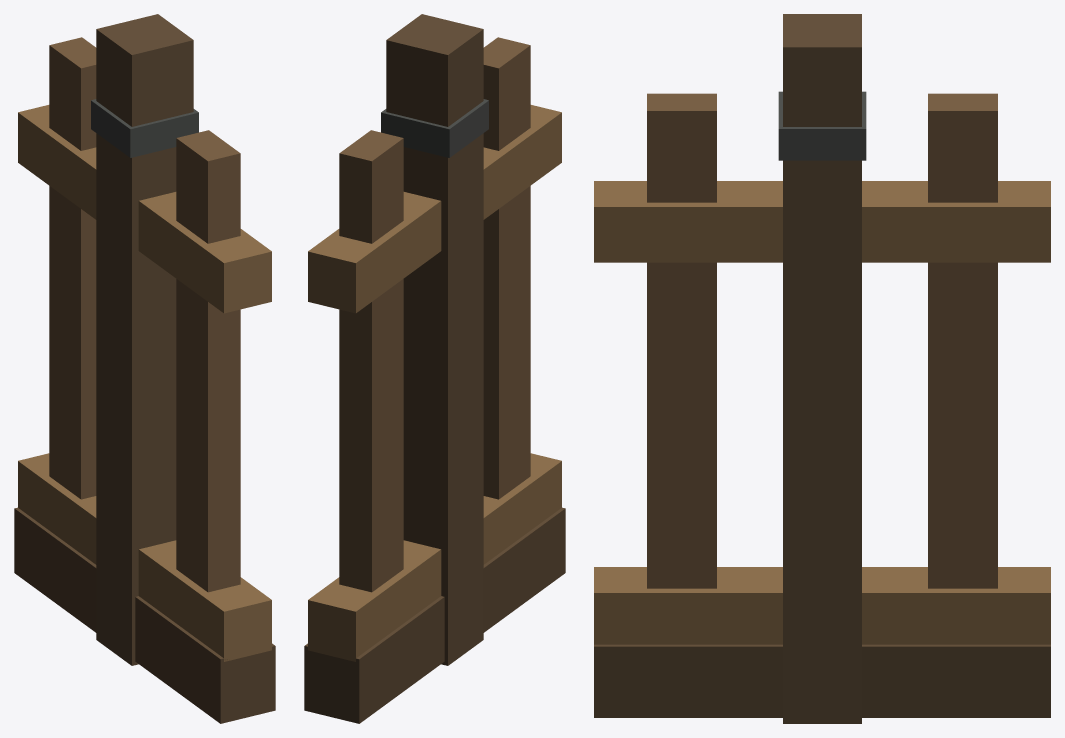
3 views of the same model, side by side, from view 1: azimuth 30°, elevation 25°; view 2: azimuth 150°, elevation 25°; view 3: azimuth 270°, elevation 25° (orthographic). The views are drawn at different scales.
Visible parts, largest first — view 1: 3132f81b4a6b1f63db47e95a6aee939cd7edae876f63878d45e85006856e; view 2: 3132f81b4a6b1f63db47e95a6aee939cd7edae876f63878d45e85006856e; view 3: 3132f81b4a6b1f63db47e95a6aee939cd7edae876f63878d45e85006856e.
Boxes of the visible parts, x1,y1,x2,y2 form: 3132f81b4a6b1f63db47e95a6aee939cd7edae876f63878d45e85006856e: [14, 14, 275, 723]; 3132f81b4a6b1f63db47e95a6aee939cd7edae876f63878d45e85006856e: [304, 14, 565, 723]; 3132f81b4a6b1f63db47e95a6aee939cd7edae876f63878d45e85006856e: [594, 14, 1050, 723].
Size of the model in its own units: 0.2 by 1.7 by 1.04.
2 materials, 1 textured.
